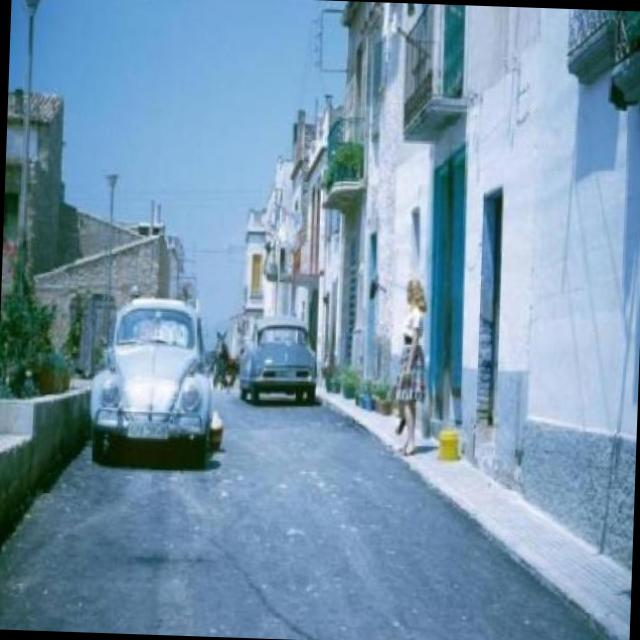car: (87, 301, 215, 457), (242, 320, 318, 400)
